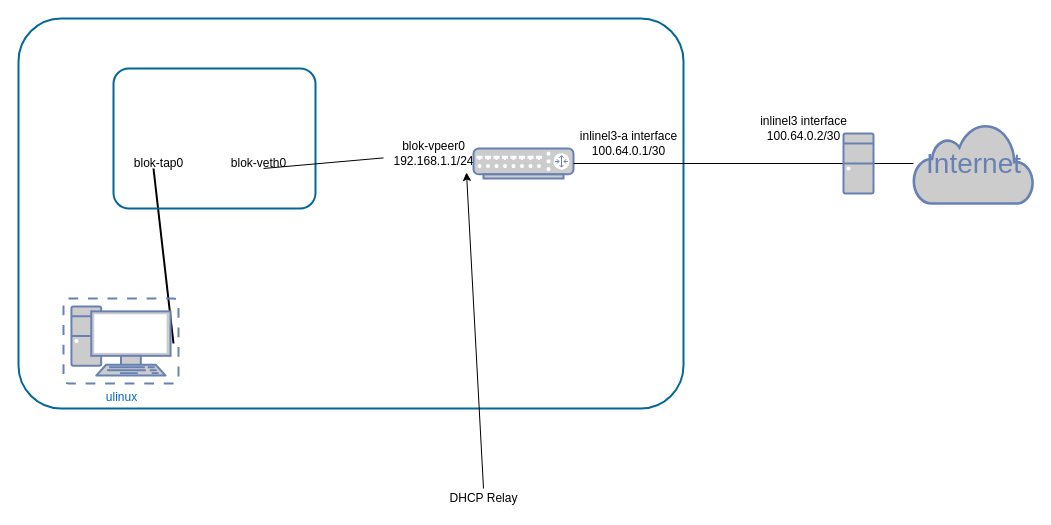
Image size: 1051x525. Some labels were removed from this diagram. The shapes that lost their labels are listed below. From the top down, each one's box as (x1, y1, x2, y2) in pixels, then its label:
(112, 67, 316, 209): blok-br0 bridge
(17, 17, 684, 409): inlinel3 network namespace
